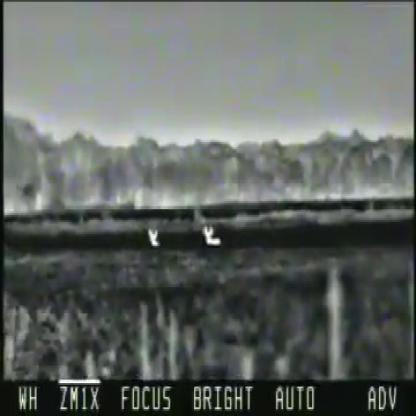rehkitze: (202, 223, 222, 248), (146, 226, 160, 250)
